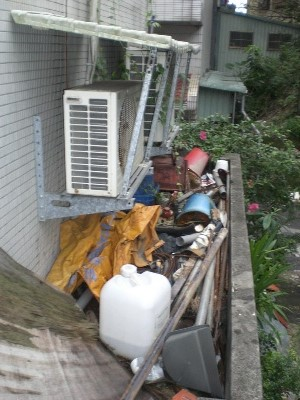bucket: (98, 264, 172, 360), (176, 194, 211, 225), (184, 146, 210, 176)
plastic_bag: (58, 215, 155, 266)
